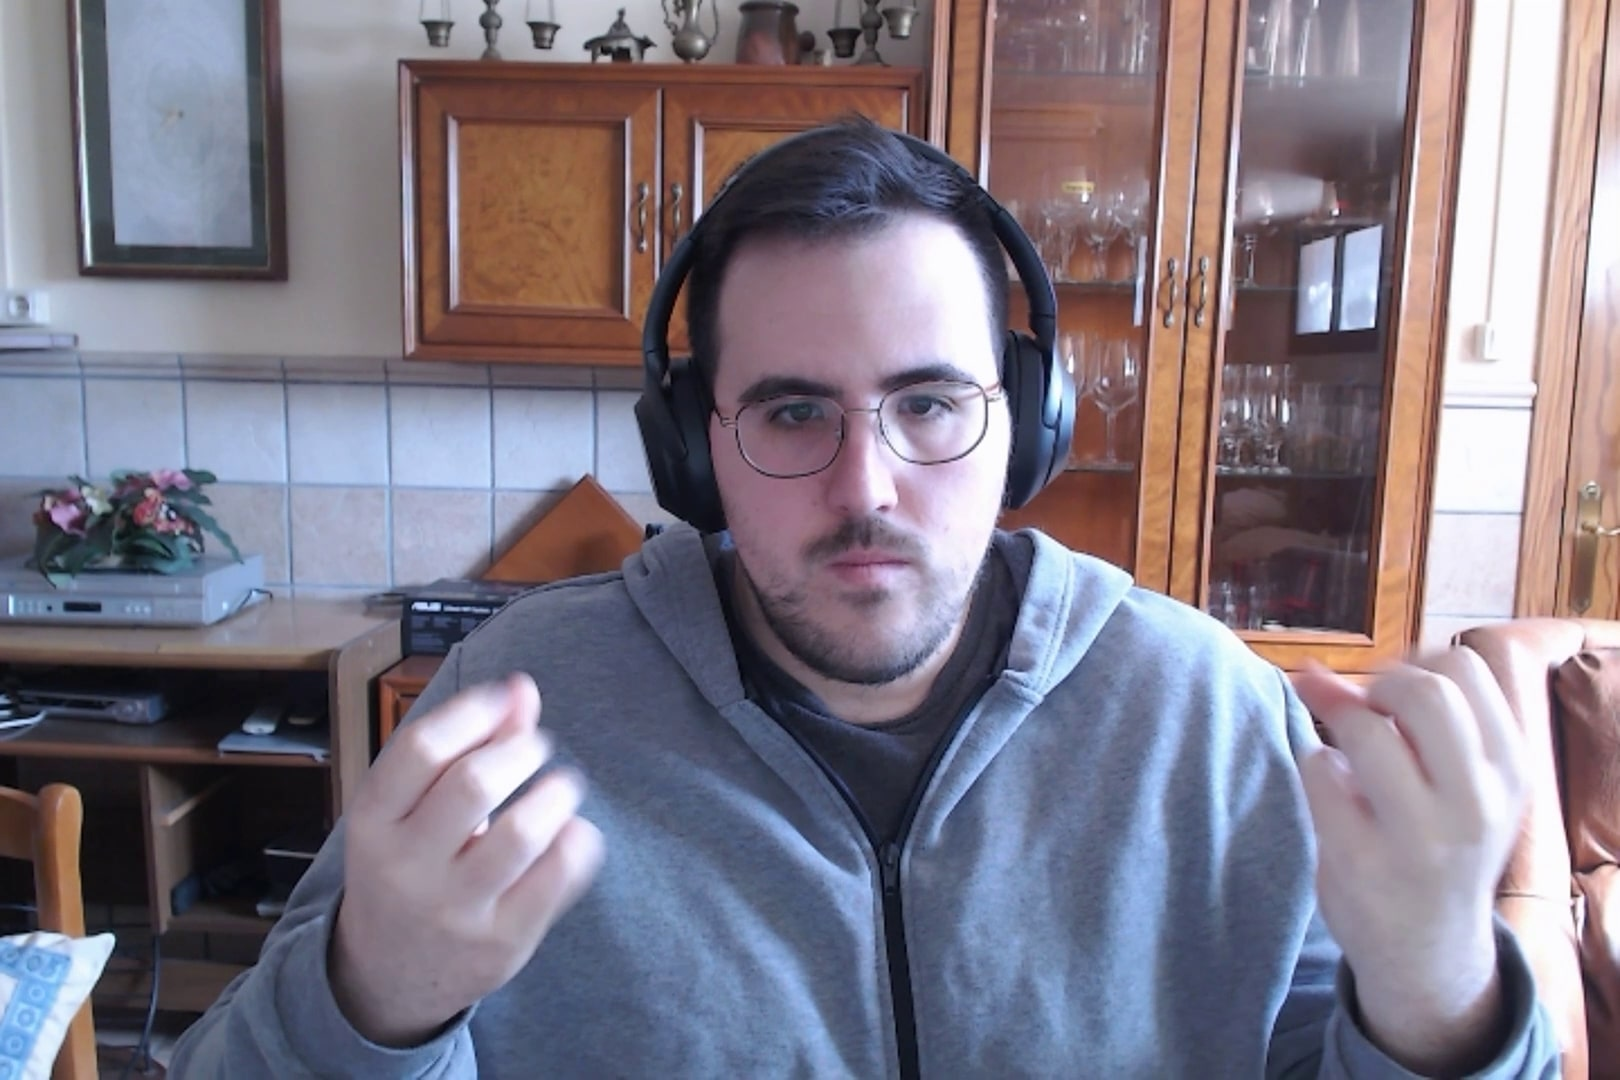hand: (1283, 618, 1585, 988), (339, 673, 619, 1032)
